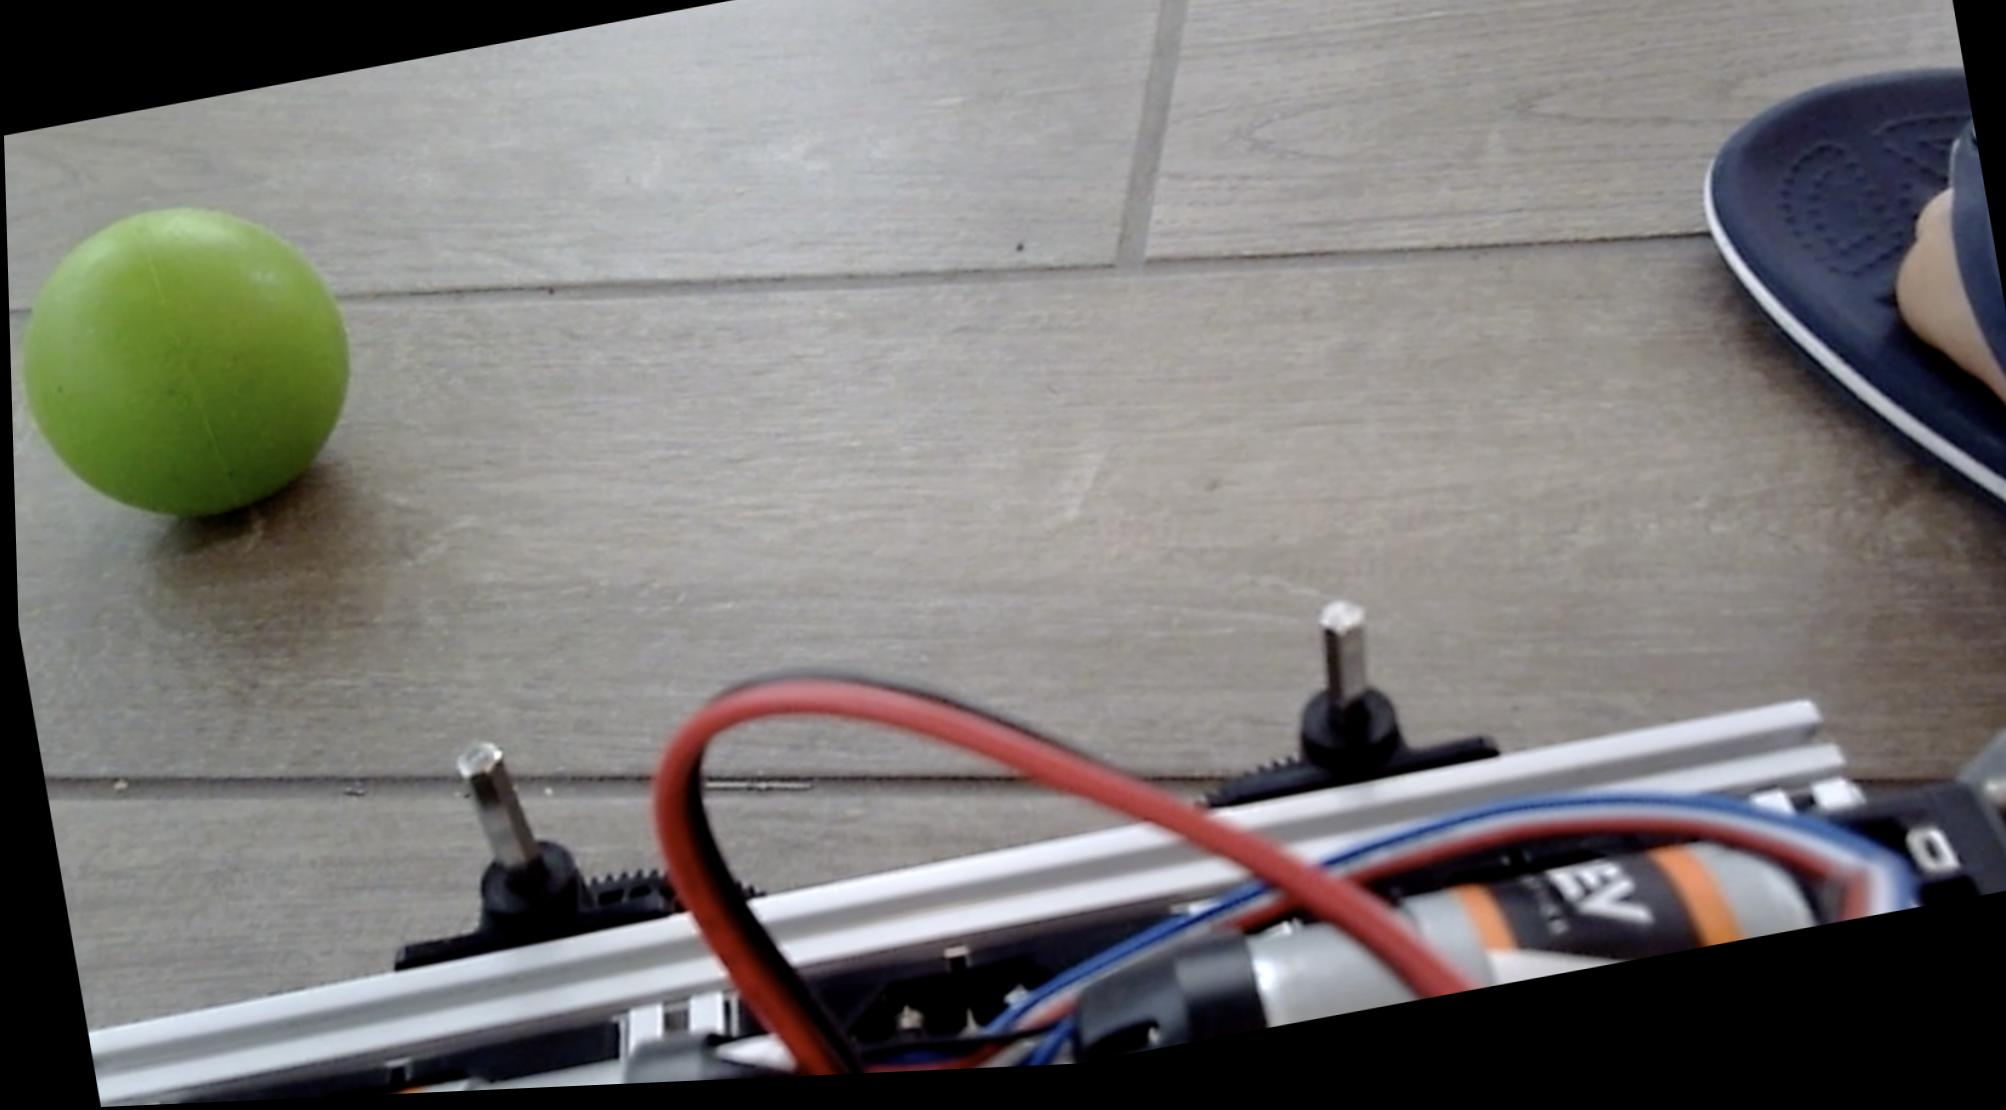greenball: (4, 175, 373, 550)
